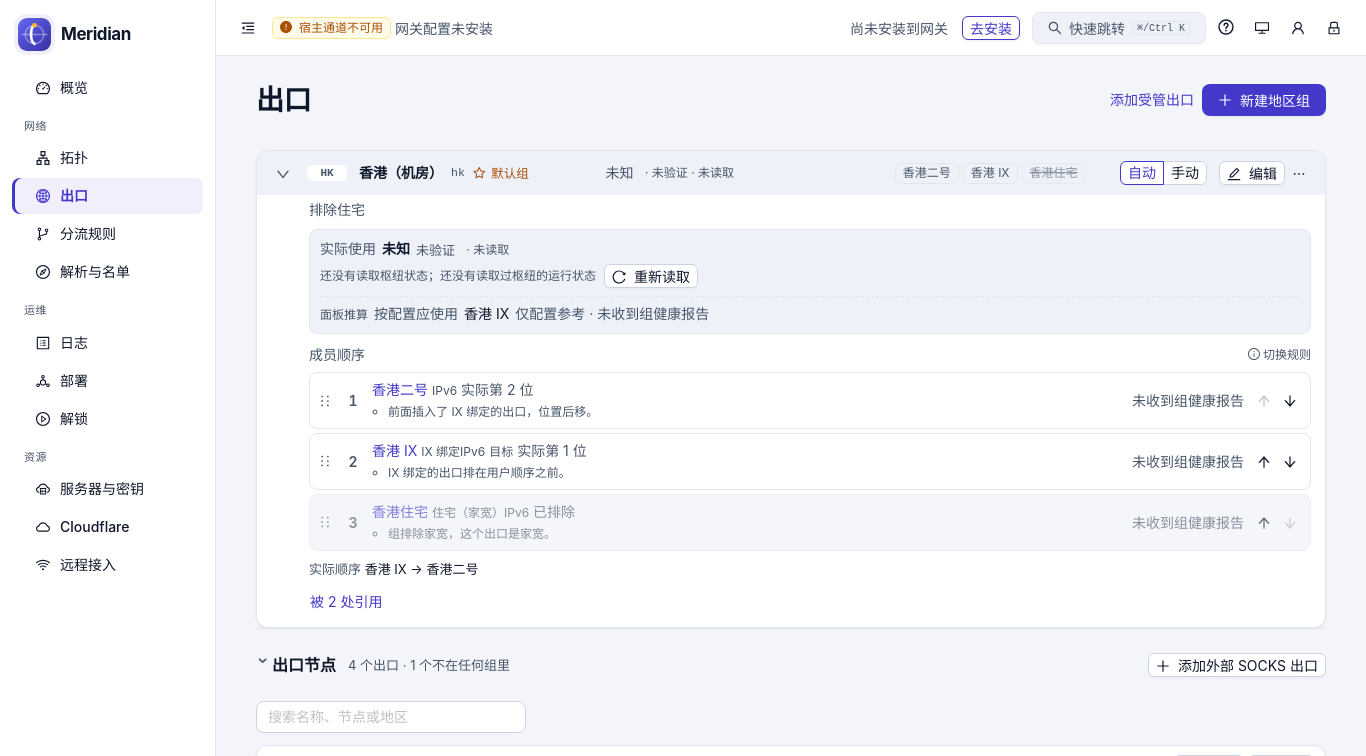
Test: region groups › reorders members locally and saves the whole order with one PATCH
// Move 香港二号 (user position 1) down twice: hk-ix, hk-resi, hk-2.
Click the button named "下移 香港二号": coordinates (1290, 401) [1278,389,1302,413]
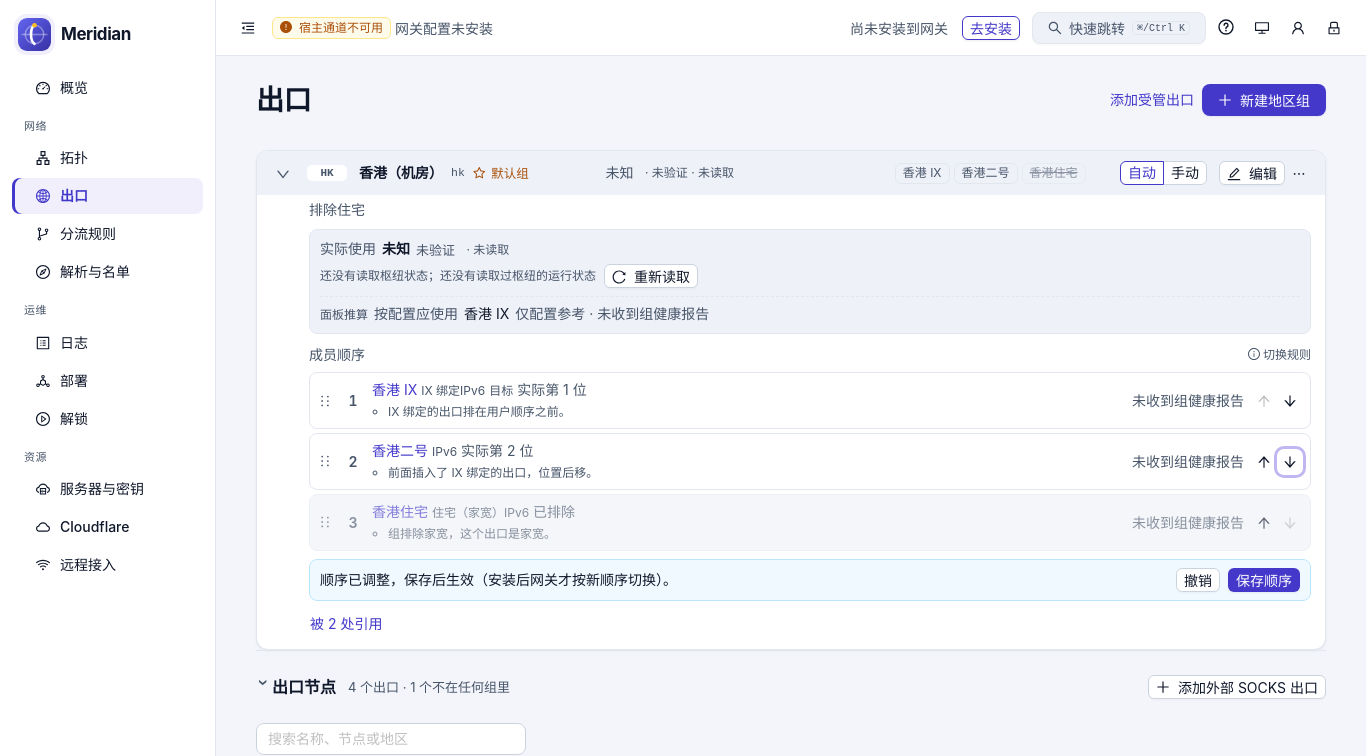
Click the button named "下移 香港二号": coordinates (1290, 462) [1278,450,1302,474]
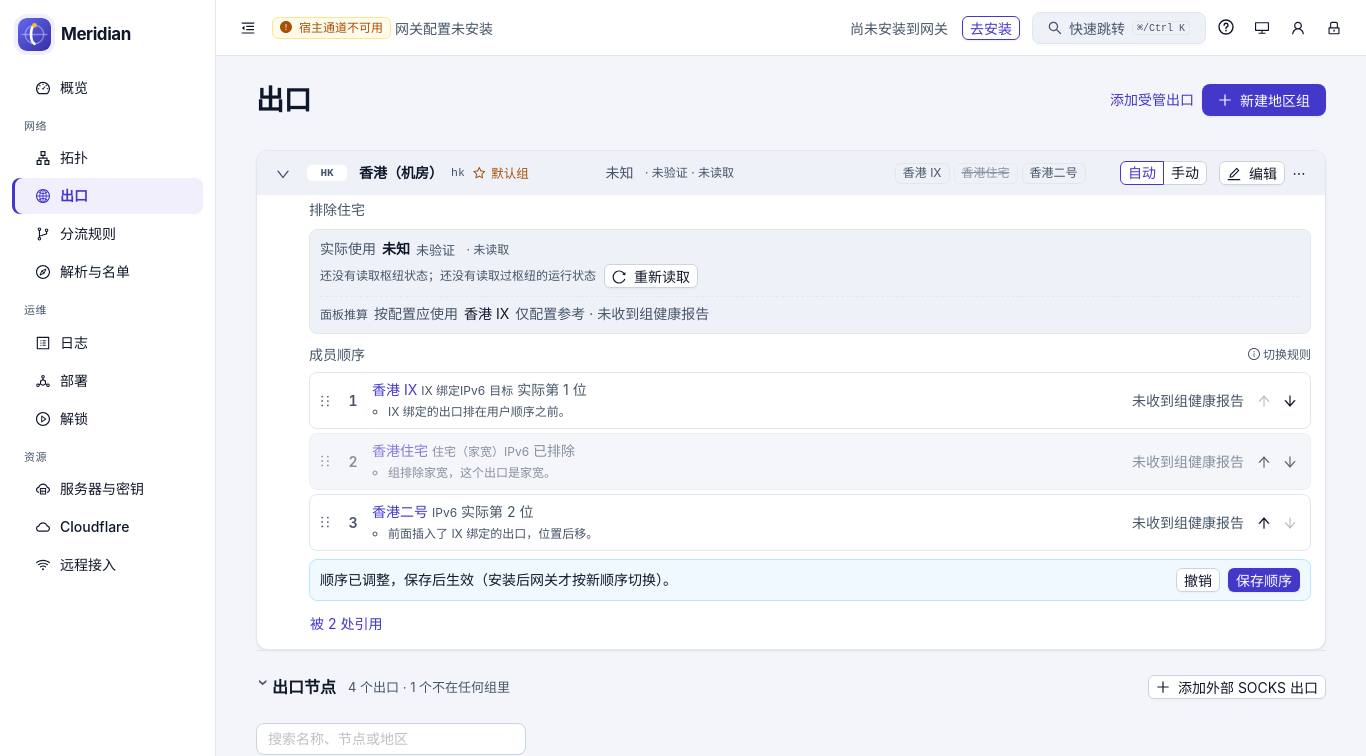
Click the button "保存顺序": coordinates (1264, 580) [1228,568,1300,592]
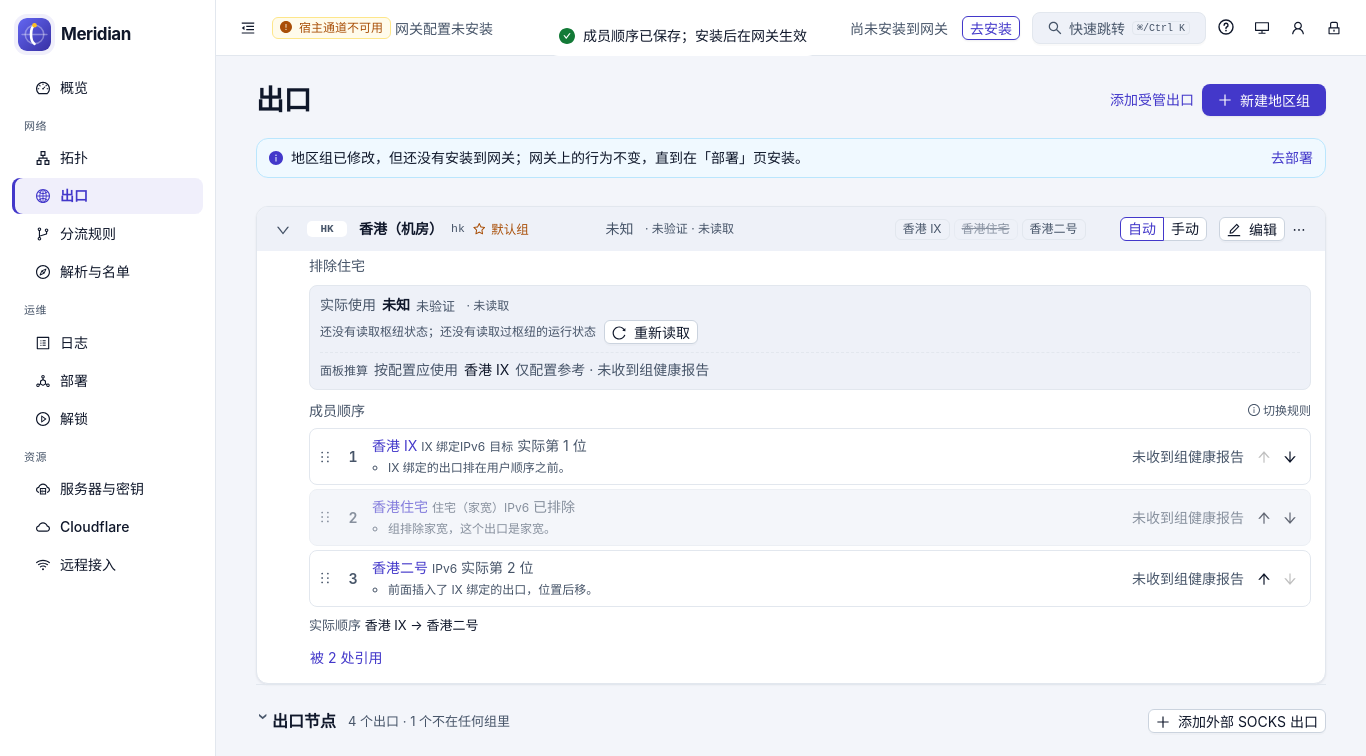
Check: the text "地区组已修改，但还没有安装到网关；网关上的行为不变，直到在「部署」页安装。" is shown, box [291,149,809,166]
